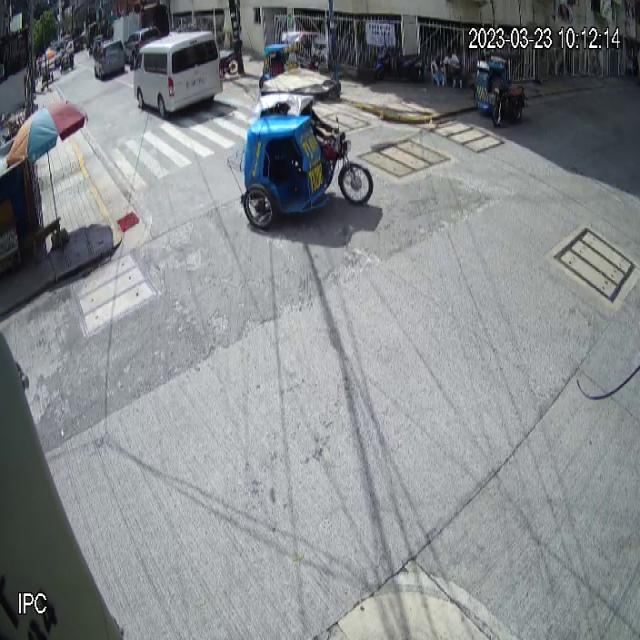Car: (133, 32, 225, 118)
Tricycle: (227, 68, 376, 231)
